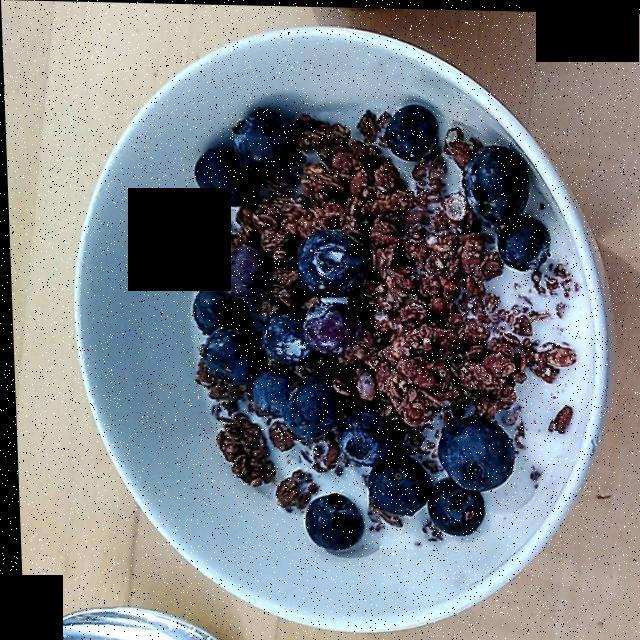blueberries: (179, 99, 554, 534)
milk: (185, 188, 575, 543)
